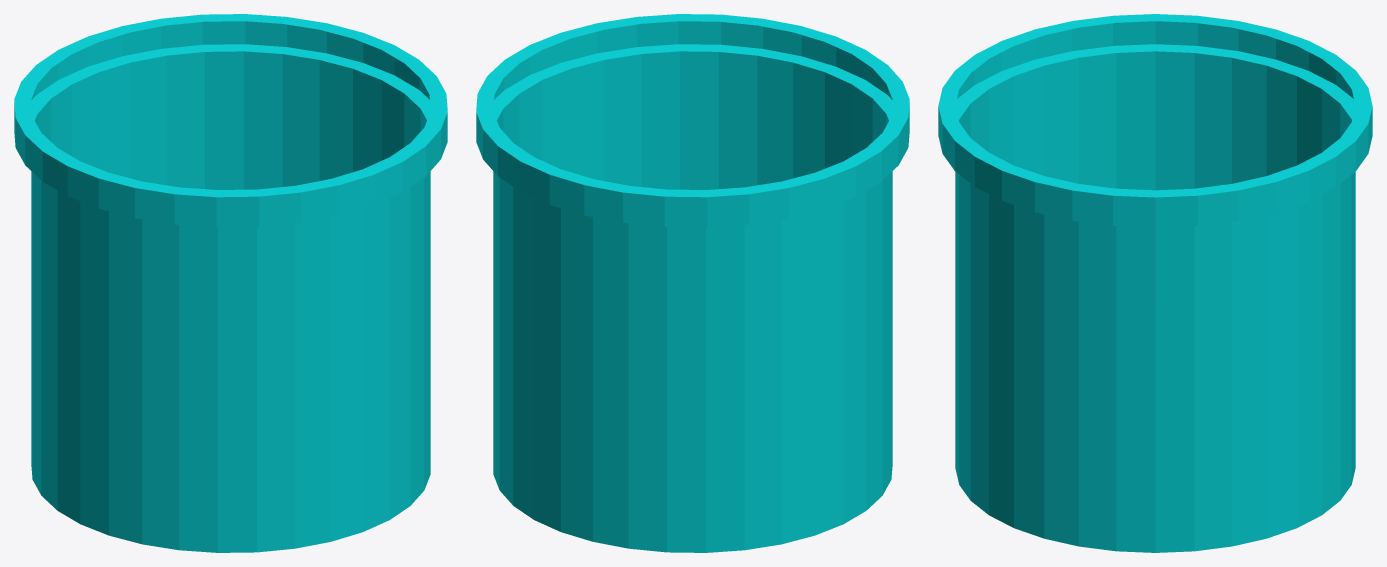
The model's file is Basket.fbx.
3 views of the same model, side by side, from view 1: azimuth 30°, elevation 25°; view 2: azimuth 150°, elevation 25°; view 3: azimuth 270°, elevation 25° (orthographic).
Parts seen in each view (by area): view 1: 円柱; view 2: 円柱; view 3: 円柱.
Part boxes in pixels (x1,y1,x2,y2): 円柱: [14, 14, 447, 552]; 円柱: [476, 14, 909, 552]; 円柱: [938, 14, 1372, 552].
Bounding box in the file's own units: 217 × 200 × 217.
